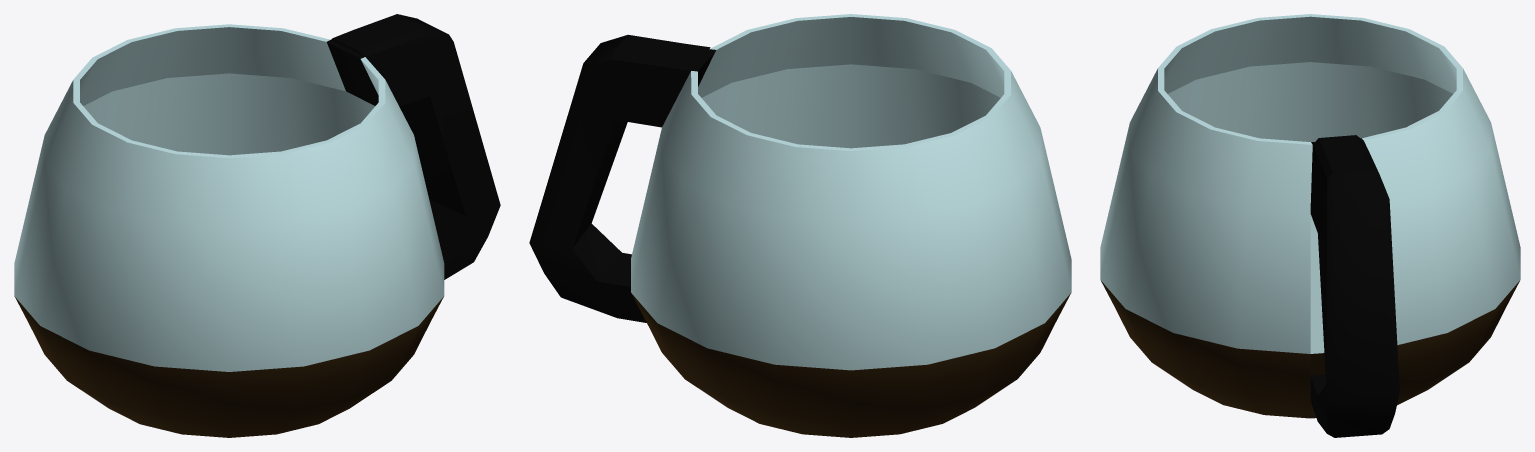
The model's file is Cafe.fbx.
3 views of the same model, side by side, from view 1: azimuth 30°, elevation 25°; view 2: azimuth 150°, elevation 25°; view 3: azimuth 270°, elevation 25° (orthographic). The views are drawn at different scales.
Parts seen in each view (by area): view 1: Cylinder079; view 2: Cylinder079; view 3: Cylinder079.
Part boxes in pixels (x1,y1,x2,y2): Cylinder079: (14, 14, 500, 437); Cylinder079: (529, 14, 1071, 437); Cylinder079: (1100, 14, 1520, 437).
Size of the model in its own units: 82.54 by 49.19 by 65.44.
